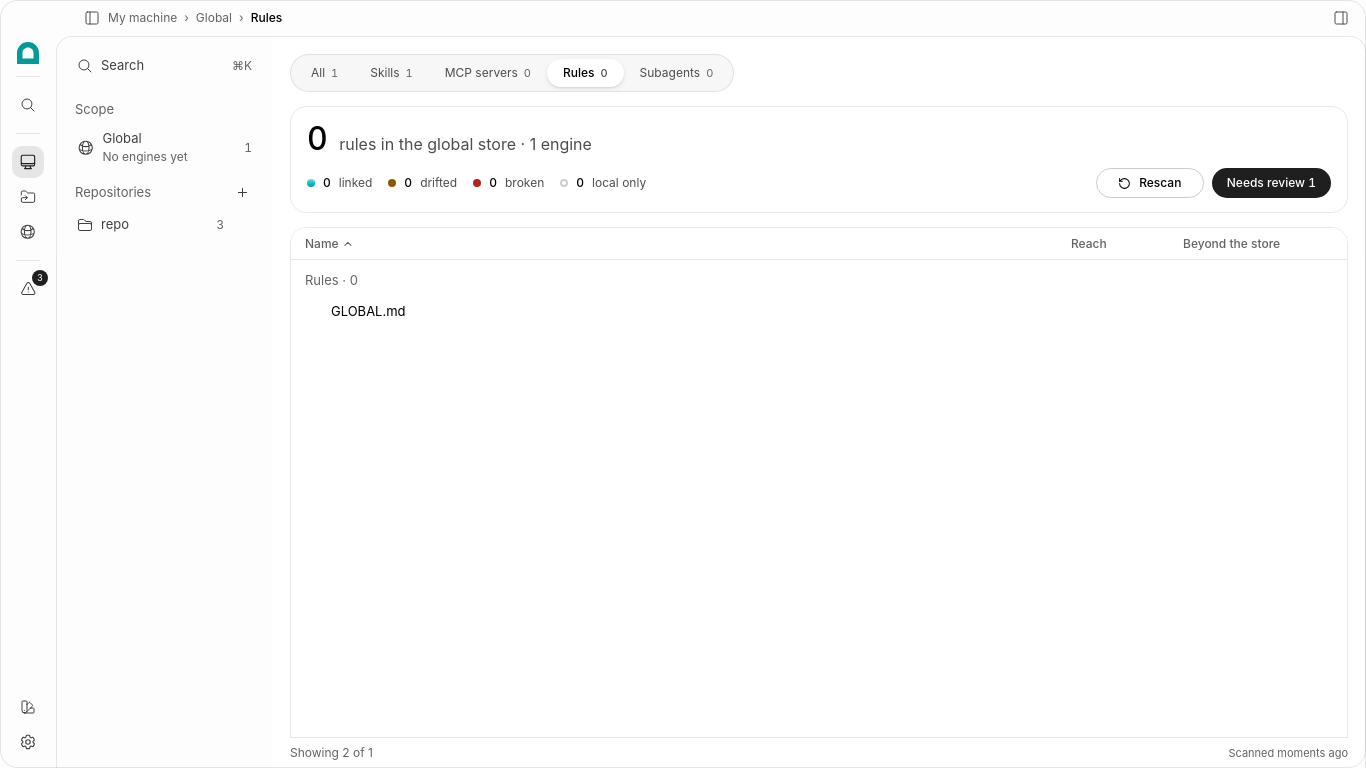
Test: each pane's pill gets only the issues that belong to it › a category tab narrows the Global pane's issues to that category
Click the text "Needs review 1".
click(1271, 183)  # box [1227,174,1316,192]
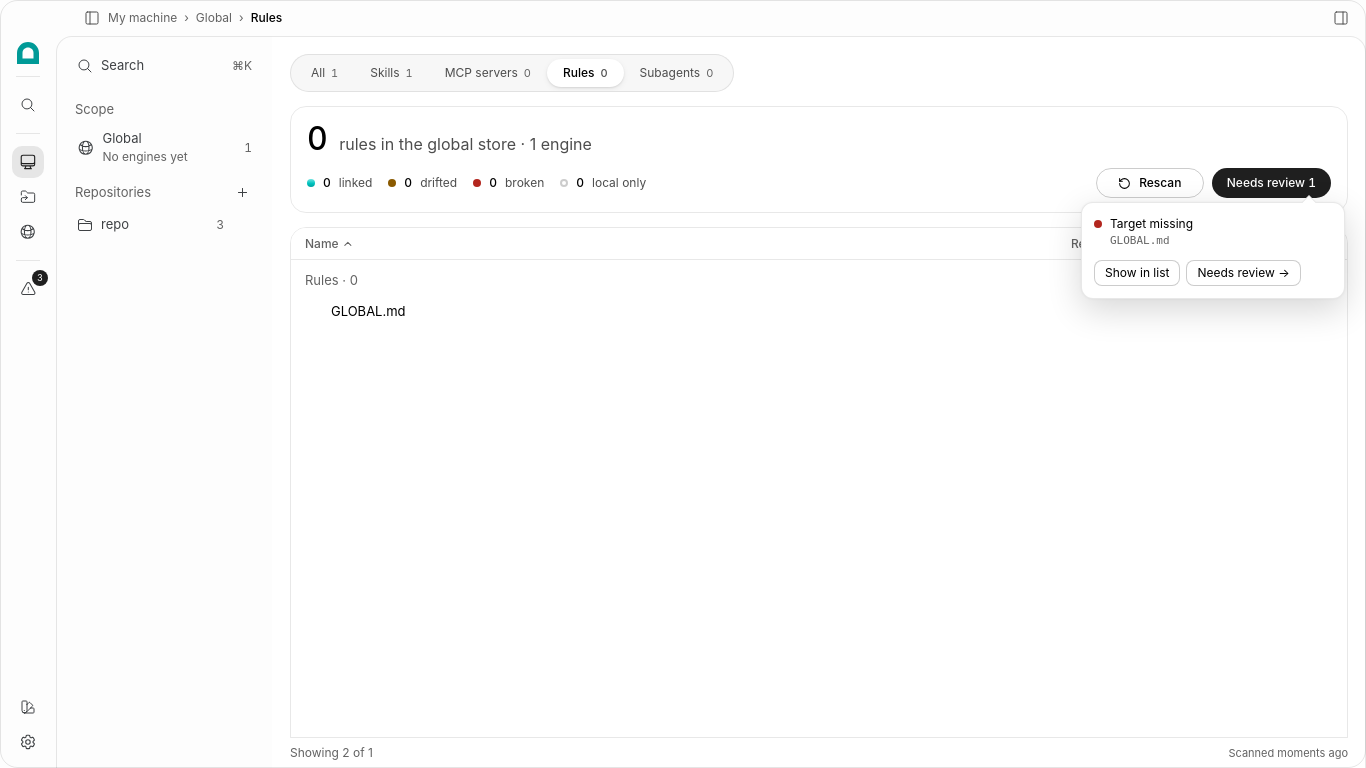
Now the list item with test id "finding-popover-line" shows "GLOBAL.md", box [1110,234,1170,247]
